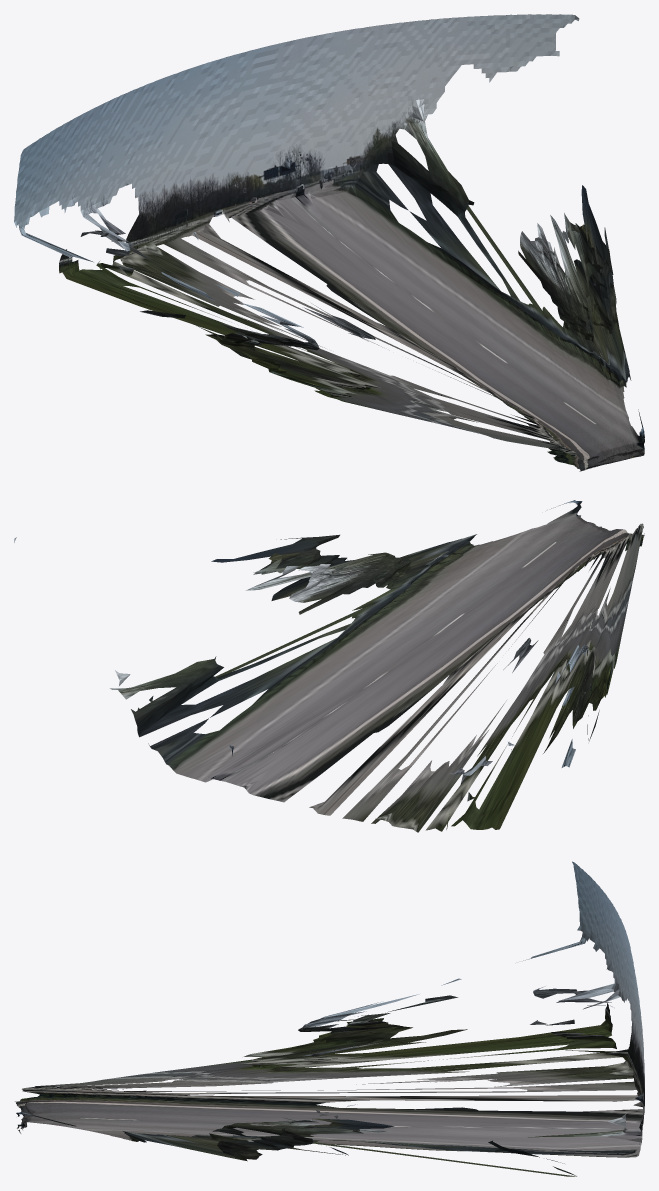
3 renders of one model, top to bottom at view 1: azimuth 30°, elevation 25°; view 2: azimuth 150°, elevation 25°; view 3: azimuth 270°, elevation 25°, orthographic. The views are drawn at different scales.
Visible parts, largest first — view 1: defaultobject; view 2: defaultobject; view 3: defaultobject.
Boxes of the visible parts, x1=… form: defaultobject: x1=14, y1=14, x2=644, y2=471; defaultobject: x1=14, y1=500, x2=644, y2=832; defaultobject: x1=15, y1=861, x2=644, y2=1176.
Size of the model in its own units: 40.73 by 12.37 by 44.7.
Materials: 1 (1 with a texture image).
